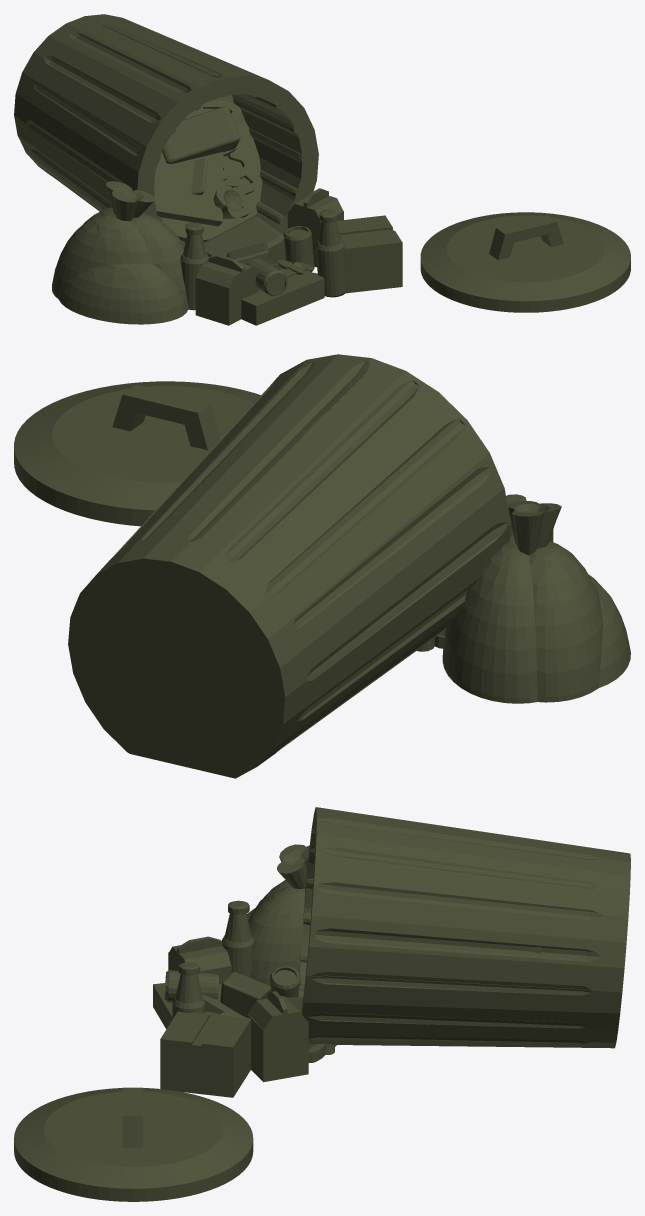
The model's file is spill can trash.glb.
3 renders of one model, top to bottom at view 1: azimuth 30°, elevation 25°; view 2: azimuth 150°, elevation 25°; view 3: azimuth 270°, elevation 25°, orthographic. The views are drawn at different scales.
Visible parts, largest first — view 1: Mesh_Mesh_head_geo.001_lambert2SG.001; view 2: Mesh_Mesh_head_geo.001_lambert2SG.001; view 3: Mesh_Mesh_head_geo.001_lambert2SG.001.
Boxes of the visible parts, x1,y1,x2,y2 form: Mesh_Mesh_head_geo.001_lambert2SG.001: (14, 14, 630, 325); Mesh_Mesh_head_geo.001_lambert2SG.001: (14, 354, 630, 778); Mesh_Mesh_head_geo.001_lambert2SG.001: (14, 807, 630, 1201).
Size of the model in its own units: 0.038 by 0.0141 by 0.0376.
